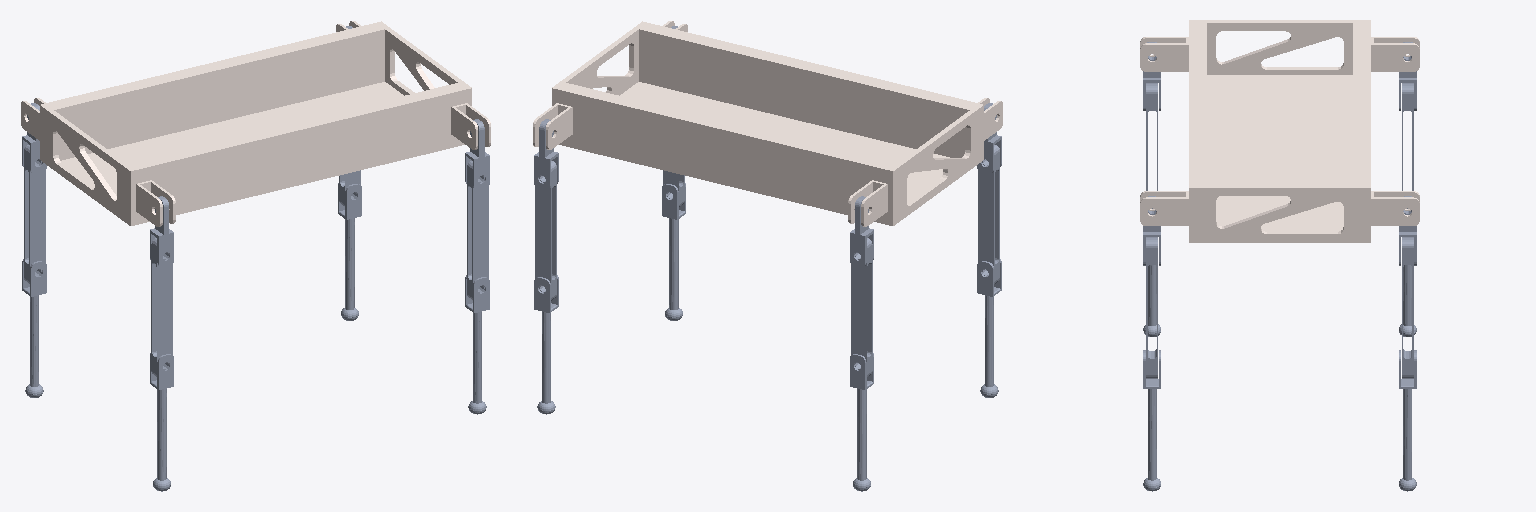
robot.urdf — quadroit_v1:
<?xml version="1.0" encoding="utf-8"?>
<!-- =================================================================================== -->
<!-- |    This document was autogenerated by xacro from /mnt/d/Aditya_MT/MT_Thesis/Quadruped/ROS/quadroit_ws/src/quadroit_v1/urdf/quadroitv1.urdf.xacro | -->
<!-- |    EDITING THIS FILE BY HAND IS NOT RECOMMENDED                                 | -->
<!-- =================================================================================== -->
<robot name="quadroit_v1">
  <!-- <material name="red">
        <color rgba="1 0 0 1"/>
    </material>

    <material name="white">
        <color rgba="1 1 1 1"/>
    </material> -->
  <link name="base_link">
    <inertial>
      <origin rpy="0 0 0" xyz="0 0 0"/>
      <mass value="10"/>
      <inertia ixx="1.0" ixy="0.0" ixz="0.0" iyy="1.0" iyz="0.0" izz="1.0"/>
    </inertial>
    <visual>
      <origin rpy="0 0 0" xyz="0 0 0"/>
      <geometry>
        <mesh filename="package://quadroit_v1/meshes/base_link_torso.STL"/>
      </geometry>
      <material name="">
        <color rgba="1 0.95686 0.93725 1"/>
      </material>
    </visual>
    <collision>
      <origin rpy="0 0 0" xyz="0 0 0"/>
      <geometry>
        <mesh filename="package://quadroit_v1/meshes/base_link_torso.STL"/>
      </geometry>
    </collision>
    <!-- <xacro:default_inertial mass="10" /> -->
  </link>
  <link name="hip_link_lf">
    <inertial>
      <origin rpy="0 0 0" xyz="0.04 0 0"/>
      <mass value="2"/>
      <inertia ixx="1.0" ixy="0.0" ixz="0.0" iyy="1.0" iyz="0.0" izz="1.0"/>
    </inertial>
    <visual>
      <origin rpy="0 0 0" xyz="0 0 0"/>
      <geometry>
        <mesh filename="package://quadroit_v1/meshes/leg_fr_hip.STL"/>
      </geometry>
      <material name="">
        <color rgba="0.66667 0.69804 0.76863 1"/>
      </material>
    </visual>
    <collision>
      <origin rpy="0 0 0" xyz="0 0 0"/>
      <geometry>
        <mesh filename="package://quadroit_v1/meshes/leg_fr_hip.STL"/>
      </geometry>
    </collision>
    <!-- <xacro:default_inertial mass="2"/> -->
  </link>
  <joint name="hip_joint_lf" type="revolute">
    <axis xyz="0 0 1"/>
    <limit effort="1000.0" lower="-1.57075" upper="1.57075" velocity="0.5"/>
    <parent link="base_link"/>
    <child link="hip_link_lf"/>
    <origin rpy="1.57075 1.57075 1.57075" xyz="0.3 0.21 0"/>
  </joint>
  <link name="thigh_link_lf">
    <inertial>
      <origin rpy="0 0 0" xyz="0.1 0 0"/>
      <mass value="2"/>
      <inertia ixx="1.0" ixy="0.0" ixz="0.0" iyy="1.0" iyz="0.0" izz="1.0"/>
    </inertial>
    <visual>
      <origin rpy="0 0 0" xyz="0 0 0"/>
      <geometry>
        <mesh filename="package://quadroit_v1/meshes/leg_fr_thigh.STL"/>
      </geometry>
      <material name="">
        <color rgba="0.66667 0.69804 0.76863 1"/>
      </material>
    </visual>
    <collision>
      <origin rpy="0 0 0" xyz="0 0 0"/>
      <geometry>
        <mesh filename="package://quadroit_v1/meshes/leg_fr_thigh.STL"/>
      </geometry>
    </collision>
    <!-- <xacro:default_inertial mass="2"/> -->
  </link>
  <joint name="elbow_joint_lf" type="revolute">
    <axis xyz="0 0 1"/>
    <limit effort="1000.0" lower="-1.57075" upper="1.57075" velocity="0.5"/>
    <parent link="hip_link_lf"/>
    <child link="thigh_link_lf"/>
    <origin rpy="1.57075 0 0" xyz="0.08 0 0"/>
  </joint>
  <link name="shank_link_lf">
    <inertial>
      <origin rpy="0 0 0" xyz="0.11 0 0"/>
      <mass value="2"/>
      <inertia ixx="1.0" ixy="0.0" ixz="0.0" iyy="1.0" iyz="0.0" izz="1.0"/>
    </inertial>
    <visual>
      <origin rpy="0 0 0" xyz="0 0 0"/>
      <geometry>
        <mesh filename="package://quadroit_v1/meshes/leg_fr_shank.STL"/>
      </geometry>
      <material name="">
        <color rgba="0.66667 0.69804 0.76863 1"/>
      </material>
    </visual>
    <collision>
      <origin rpy="0 0 0" xyz="0 0 0"/>
      <geometry>
        <mesh filename="package://quadroit_v1/meshes/leg_fr_shank.STL"/>
      </geometry>
    </collision>
    <!-- <xacro:default_inertial mass="2"/> -->
  </link>
  <joint name="wrist_joint_lf" type="revolute">
    <axis xyz="0 0 1"/>
    <limit effort="1000.0" lower="-1.57075" upper="1.57075" velocity="0.5"/>
    <parent link="thigh_link_lf"/>
    <child link="shank_link_lf"/>
    <origin rpy="0 0 0" xyz="0.2 0 0"/>
  </joint>
  <link name="foot_link_lf">
    <!-- <visual>
                <geometry>
                    <sphere radius="${foot_radius}"/>
                </geometry>
                <origin rpy="0 0 0" xyz="0 0 0"/>
                <material name="white"/>
            </visual>
            <xacro:default_inertial mass="0.2"/> -->
  </link>
  <joint name="foot_lf" type="fixed">
    <parent link="shank_link_lf"/>
    <child link="foot_link_lf"/>
    <origin xyz="0.23 0 0"/>
  </joint>
  <link name="hip_link_rf">
    <inertial>
      <origin rpy="0 0 0" xyz="0.04 0 0"/>
      <mass value="2"/>
      <inertia ixx="1.0" ixy="0.0" ixz="0.0" iyy="1.0" iyz="0.0" izz="1.0"/>
    </inertial>
    <visual>
      <origin rpy="0 0 0" xyz="0 0 0"/>
      <geometry>
        <mesh filename="package://quadroit_v1/meshes/leg_fr_hip.STL"/>
      </geometry>
      <material name="">
        <color rgba="0.66667 0.69804 0.76863 1"/>
      </material>
    </visual>
    <collision>
      <origin rpy="0 0 0" xyz="0 0 0"/>
      <geometry>
        <mesh filename="package://quadroit_v1/meshes/leg_fr_hip.STL"/>
      </geometry>
    </collision>
    <!-- <xacro:default_inertial mass="2"/> -->
  </link>
  <joint name="hip_joint_rf" type="revolute">
    <axis xyz="0 0 1"/>
    <limit effort="1000.0" lower="-1.57075" upper="1.57075" velocity="0.5"/>
    <parent link="base_link"/>
    <child link="hip_link_rf"/>
    <origin rpy="1.57075 1.57075 1.57075" xyz="0.3 -0.21 0"/>
  </joint>
  <link name="thigh_link_rf">
    <inertial>
      <origin rpy="0 0 0" xyz="0.1 0 0"/>
      <mass value="2"/>
      <inertia ixx="1.0" ixy="0.0" ixz="0.0" iyy="1.0" iyz="0.0" izz="1.0"/>
    </inertial>
    <visual>
      <origin rpy="0 0 0" xyz="0 0 0"/>
      <geometry>
        <mesh filename="package://quadroit_v1/meshes/leg_fr_thigh.STL"/>
      </geometry>
      <material name="">
        <color rgba="0.66667 0.69804 0.76863 1"/>
      </material>
    </visual>
    <collision>
      <origin rpy="0 0 0" xyz="0 0 0"/>
      <geometry>
        <mesh filename="package://quadroit_v1/meshes/leg_fr_thigh.STL"/>
      </geometry>
    </collision>
    <!-- <xacro:default_inertial mass="2"/> -->
  </link>
  <joint name="elbow_joint_rf" type="revolute">
    <axis xyz="0 0 1"/>
    <limit effort="1000.0" lower="-1.57075" upper="1.57075" velocity="0.5"/>
    <parent link="hip_link_rf"/>
    <child link="thigh_link_rf"/>
    <origin rpy="1.57075 0 0" xyz="0.08 0 0"/>
  </joint>
  <link name="shank_link_rf">
    <inertial>
      <origin rpy="0 0 0" xyz="0.11 0 0"/>
      <mass value="2"/>
      <inertia ixx="1.0" ixy="0.0" ixz="0.0" iyy="1.0" iyz="0.0" izz="1.0"/>
    </inertial>
    <visual>
      <origin rpy="0 0 0" xyz="0 0 0"/>
      <geometry>
        <mesh filename="package://quadroit_v1/meshes/leg_fr_shank.STL"/>
      </geometry>
      <material name="">
        <color rgba="0.66667 0.69804 0.76863 1"/>
      </material>
    </visual>
    <collision>
      <origin rpy="0 0 0" xyz="0 0 0"/>
      <geometry>
        <mesh filename="package://quadroit_v1/meshes/leg_fr_shank.STL"/>
      </geometry>
    </collision>
    <!-- <xacro:default_inertial mass="2"/> -->
  </link>
  <joint name="wrist_joint_rf" type="revolute">
    <axis xyz="0 0 1"/>
    <limit effort="1000.0" lower="-1.57075" upper="1.57075" velocity="0.5"/>
    <parent link="thigh_link_rf"/>
    <child link="shank_link_rf"/>
    <origin rpy="0 0 0" xyz="0.2 0 0"/>
  </joint>
  <link name="foot_link_rf">
    <!-- <visual>
                <geometry>
                    <sphere radius="${foot_radius}"/>
                </geometry>
                <origin rpy="0 0 0" xyz="0 0 0"/>
                <material name="white"/>
            </visual>
            <xacro:default_inertial mass="0.2"/> -->
  </link>
  <joint name="foot_rf" type="fixed">
    <parent link="shank_link_rf"/>
    <child link="foot_link_rf"/>
    <origin xyz="0.23 0 0"/>
  </joint>
  <link name="hip_link_lb">
    <inertial>
      <origin rpy="0 0 0" xyz="0.04 0 0"/>
      <mass value="2"/>
      <inertia ixx="1.0" ixy="0.0" ixz="0.0" iyy="1.0" iyz="0.0" izz="1.0"/>
    </inertial>
    <visual>
      <origin rpy="0 0 0" xyz="0 0 0"/>
      <geometry>
        <mesh filename="package://quadroit_v1/meshes/leg_fr_hip.STL"/>
      </geometry>
      <material name="">
        <color rgba="0.66667 0.69804 0.76863 1"/>
      </material>
    </visual>
    <collision>
      <origin rpy="0 0 0" xyz="0 0 0"/>
      <geometry>
        <mesh filename="package://quadroit_v1/meshes/leg_fr_hip.STL"/>
      </geometry>
    </collision>
    <!-- <xacro:default_inertial mass="2"/> -->
  </link>
  <joint name="hip_joint_lb" type="revolute">
    <axis xyz="0 0 1"/>
    <limit effort="1000.0" lower="-1.57075" upper="1.57075" velocity="0.5"/>
    <parent link="base_link"/>
    <child link="hip_link_lb"/>
    <origin rpy="1.57075 1.57075 1.57075" xyz="-0.3 0.21 0"/>
  </joint>
  <link name="thigh_link_lb">
    <inertial>
      <origin rpy="0 0 0" xyz="0.1 0 0"/>
      <mass value="2"/>
      <inertia ixx="1.0" ixy="0.0" ixz="0.0" iyy="1.0" iyz="0.0" izz="1.0"/>
    </inertial>
    <visual>
      <origin rpy="0 0 0" xyz="0 0 0"/>
      <geometry>
        <mesh filename="package://quadroit_v1/meshes/leg_fr_thigh.STL"/>
      </geometry>
      <material name="">
        <color rgba="0.66667 0.69804 0.76863 1"/>
      </material>
    </visual>
    <collision>
      <origin rpy="0 0 0" xyz="0 0 0"/>
      <geometry>
        <mesh filename="package://quadroit_v1/meshes/leg_fr_thigh.STL"/>
      </geometry>
    </collision>
    <!-- <xacro:default_inertial mass="2"/> -->
  </link>
  <joint name="elbow_joint_lb" type="revolute">
    <axis xyz="0 0 1"/>
    <limit effort="1000.0" lower="-1.57075" upper="1.57075" velocity="0.5"/>
    <parent link="hip_link_lb"/>
    <child link="thigh_link_lb"/>
    <origin rpy="1.57075 0 0" xyz="0.08 0 0"/>
  </joint>
  <link name="shank_link_lb">
    <inertial>
      <origin rpy="0 0 0" xyz="0.11 0 0"/>
      <mass value="2"/>
      <inertia ixx="1.0" ixy="0.0" ixz="0.0" iyy="1.0" iyz="0.0" izz="1.0"/>
    </inertial>
    <visual>
      <origin rpy="0 0 0" xyz="0 0 0"/>
      <geometry>
        <mesh filename="package://quadroit_v1/meshes/leg_fr_shank.STL"/>
      </geometry>
      <material name="">
        <color rgba="0.66667 0.69804 0.76863 1"/>
      </material>
    </visual>
    <collision>
      <origin rpy="0 0 0" xyz="0 0 0"/>
      <geometry>
        <mesh filename="package://quadroit_v1/meshes/leg_fr_shank.STL"/>
      </geometry>
    </collision>
    <!-- <xacro:default_inertial mass="2"/> -->
  </link>
  <joint name="wrist_joint_lb" type="revolute">
    <axis xyz="0 0 1"/>
    <limit effort="1000.0" lower="-1.57075" upper="1.57075" velocity="0.5"/>
    <parent link="thigh_link_lb"/>
    <child link="shank_link_lb"/>
    <origin rpy="0 0 0" xyz="0.2 0 0"/>
  </joint>
  <link name="foot_link_lb">
    <!-- <visual>
                <geometry>
                    <sphere radius="${foot_radius}"/>
                </geometry>
                <origin rpy="0 0 0" xyz="0 0 0"/>
                <material name="white"/>
            </visual>
            <xacro:default_inertial mass="0.2"/> -->
  </link>
  <joint name="foot_lb" type="fixed">
    <parent link="shank_link_lb"/>
    <child link="foot_link_lb"/>
    <origin xyz="0.23 0 0"/>
  </joint>
  <link name="hip_link_rb">
    <inertial>
      <origin rpy="0 0 0" xyz="0.04 0 0"/>
      <mass value="2"/>
      <inertia ixx="1.0" ixy="0.0" ixz="0.0" iyy="1.0" iyz="0.0" izz="1.0"/>
    </inertial>
    <visual>
      <origin rpy="0 0 0" xyz="0 0 0"/>
      <geometry>
        <mesh filename="package://quadroit_v1/meshes/leg_fr_hip.STL"/>
      </geometry>
      <material name="">
        <color rgba="0.66667 0.69804 0.76863 1"/>
      </material>
    </visual>
    <collision>
      <origin rpy="0 0 0" xyz="0 0 0"/>
      <geometry>
        <mesh filename="package://quadroit_v1/meshes/leg_fr_hip.STL"/>
      </geometry>
    </collision>
    <!-- <xacro:default_inertial mass="2"/> -->
  </link>
  <joint name="hip_joint_rb" type="revolute">
    <axis xyz="0 0 1"/>
    <limit effort="1000.0" lower="-1.57075" upper="1.57075" velocity="0.5"/>
    <parent link="base_link"/>
    <child link="hip_link_rb"/>
    <origin rpy="1.57075 1.57075 1.57075" xyz="-0.3 -0.21 0"/>
  </joint>
  <link name="thigh_link_rb">
    <inertial>
      <origin rpy="0 0 0" xyz="0.1 0 0"/>
      <mass value="2"/>
      <inertia ixx="1.0" ixy="0.0" ixz="0.0" iyy="1.0" iyz="0.0" izz="1.0"/>
    </inertial>
    <visual>
      <origin rpy="0 0 0" xyz="0 0 0"/>
      <geometry>
        <mesh filename="package://quadroit_v1/meshes/leg_fr_thigh.STL"/>
      </geometry>
      <material name="">
        <color rgba="0.66667 0.69804 0.76863 1"/>
      </material>
    </visual>
    <collision>
      <origin rpy="0 0 0" xyz="0 0 0"/>
      <geometry>
        <mesh filename="package://quadroit_v1/meshes/leg_fr_thigh.STL"/>
      </geometry>
    </collision>
    <!-- <xacro:default_inertial mass="2"/> -->
  </link>
  <joint name="elbow_joint_rb" type="revolute">
    <axis xyz="0 0 1"/>
    <limit effort="1000.0" lower="-1.57075" upper="1.57075" velocity="0.5"/>
    <parent link="hip_link_rb"/>
    <child link="thigh_link_rb"/>
    <origin rpy="1.57075 0 0" xyz="0.08 0 0"/>
  </joint>
  <link name="shank_link_rb">
    <inertial>
      <origin rpy="0 0 0" xyz="0.11 0 0"/>
      <mass value="2"/>
      <inertia ixx="1.0" ixy="0.0" ixz="0.0" iyy="1.0" iyz="0.0" izz="1.0"/>
    </inertial>
    <visual>
      <origin rpy="0 0 0" xyz="0 0 0"/>
      <geometry>
        <mesh filename="package://quadroit_v1/meshes/leg_fr_shank.STL"/>
      </geometry>
      <material name="">
        <color rgba="0.66667 0.69804 0.76863 1"/>
      </material>
    </visual>
    <collision>
      <origin rpy="0 0 0" xyz="0 0 0"/>
      <geometry>
        <mesh filename="package://quadroit_v1/meshes/leg_fr_shank.STL"/>
      </geometry>
    </collision>
    <!-- <xacro:default_inertial mass="2"/> -->
  </link>
  <joint name="wrist_joint_rb" type="revolute">
    <axis xyz="0 0 1"/>
    <limit effort="1000.0" lower="-1.57075" upper="1.57075" velocity="0.5"/>
    <parent link="thigh_link_rb"/>
    <child link="shank_link_rb"/>
    <origin rpy="0 0 0" xyz="0.2 0 0"/>
  </joint>
  <link name="foot_link_rb">
    <!-- <visual>
                <geometry>
                    <sphere radius="${foot_radius}"/>
                </geometry>
                <origin rpy="0 0 0" xyz="0 0 0"/>
                <material name="white"/>
            </visual>
            <xacro:default_inertial mass="0.2"/> -->
  </link>
  <joint name="foot_rb" type="fixed">
    <parent link="shank_link_rb"/>
    <child link="foot_link_rb"/>
    <origin xyz="0.23 0 0"/>
  </joint>
</robot>

--- Facts derived from the render (not from the file) ---
Views: 3 orthographic renders of the robot side by side, from view 1: azimuth 30°, elevation 25°; view 2: azimuth 150°, elevation 25°; view 3: azimuth 270°, elevation 25°.
Robot: quadroit_v1 — 17 links, 16 joints (12 revolute, 4 fixed); root link base_link; default pose: every joint at zero.
Visible links, largest first — view 1: base_link, thigh_link_rf, thigh_link_lb, thigh_link_rb, shank_link_rb, shank_link_lf, shank_link_lb, shank_link_rf, hip_link_rf, hip_link_rb, hip_link_lb; view 2: base_link, thigh_link_lf, thigh_link_rb, thigh_link_lb, shank_link_lb, shank_link_rf, shank_link_rb, shank_link_lf, hip_link_lf, hip_link_lb, hip_link_rb; view 3: base_link, shank_link_lf, shank_link_rf, thigh_link_lf, thigh_link_rf, shank_link_rb, shank_link_lb, thigh_link_lb, thigh_link_rb.
Boxes of the visible links, box(x1,y1,x2,y2) form: base_link: box(21, 21, 490, 226); thigh_link_rf: box(467, 161, 488, 300); thigh_link_lb: box(24, 145, 45, 283); thigh_link_rb: box(151, 238, 172, 376); shank_link_rb: box(150, 353, 173, 491); shank_link_lf: box(338, 183, 361, 320); shank_link_lb: box(22, 259, 46, 397); shank_link_rf: box(465, 275, 489, 414); hip_link_rf: box(465, 119, 489, 190); hip_link_rb: box(150, 196, 173, 267); hip_link_lb: box(22, 103, 46, 174); base_link: box(533, 21, 1002, 226); thigh_link_lf: box(535, 161, 556, 300); thigh_link_rb: box(978, 145, 999, 283); thigh_link_lb: box(851, 238, 872, 376); shank_link_lb: box(850, 353, 873, 491); shank_link_rf: box(662, 183, 685, 320); shank_link_rb: box(977, 259, 1001, 397); shank_link_lf: box(534, 275, 558, 414); hip_link_lf: box(534, 119, 558, 190); hip_link_lb: box(850, 196, 873, 267); hip_link_rb: box(977, 103, 1001, 174); base_link: box(1140, 20, 1419, 242); shank_link_lf: box(1399, 350, 1416, 491); shank_link_rf: box(1143, 350, 1160, 491); thigh_link_lf: box(1402, 237, 1413, 378); thigh_link_rf: box(1146, 237, 1157, 378); shank_link_rb: box(1143, 265, 1160, 336); shank_link_lb: box(1399, 265, 1416, 336); thigh_link_lb: box(1402, 83, 1413, 208); thigh_link_rb: box(1146, 83, 1157, 208).
Size in the robot's own frame: 0.65 by 0.46 by 0.56 metres.
13 mesh visuals loaded from 4 distinct referenced files (4 binary STL).
